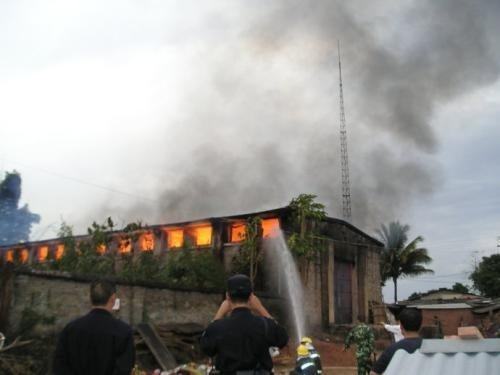fire: (230, 221, 247, 240)
